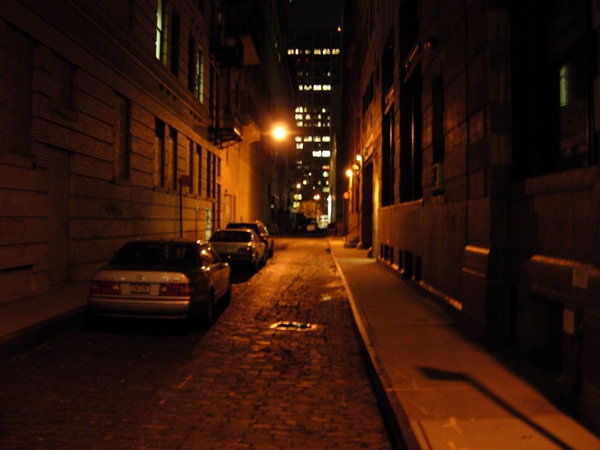car: (203, 222, 273, 277)
